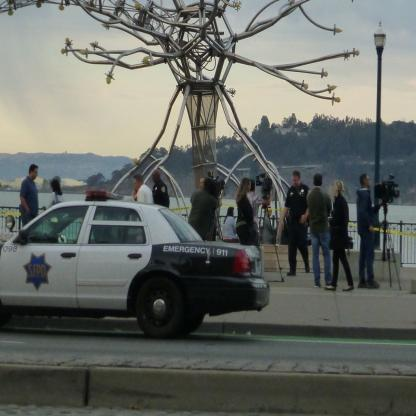Car: (1, 187, 271, 338)
